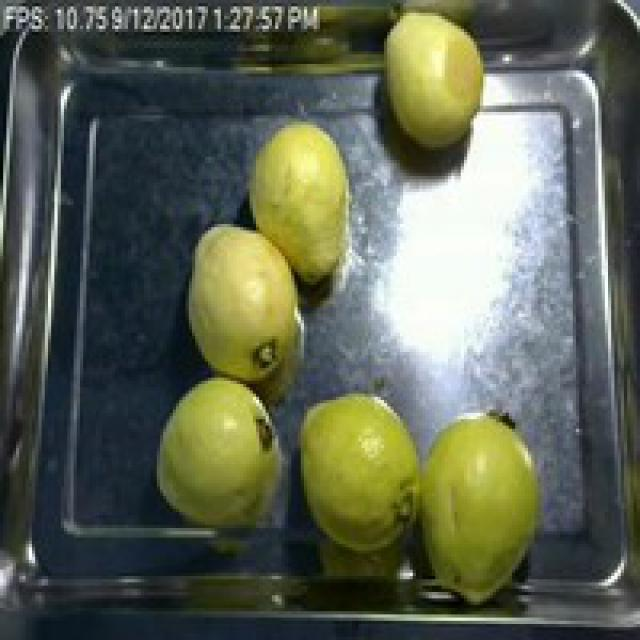Fruit: (400, 397, 557, 621), (176, 212, 317, 406), (285, 378, 432, 556), (148, 368, 294, 538), (240, 109, 362, 294), (368, 0, 499, 170)
